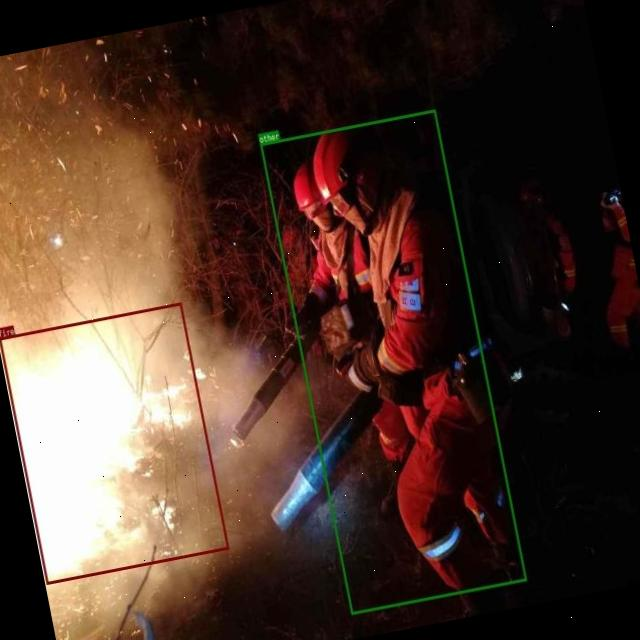fire: (0, 302, 228, 584)
